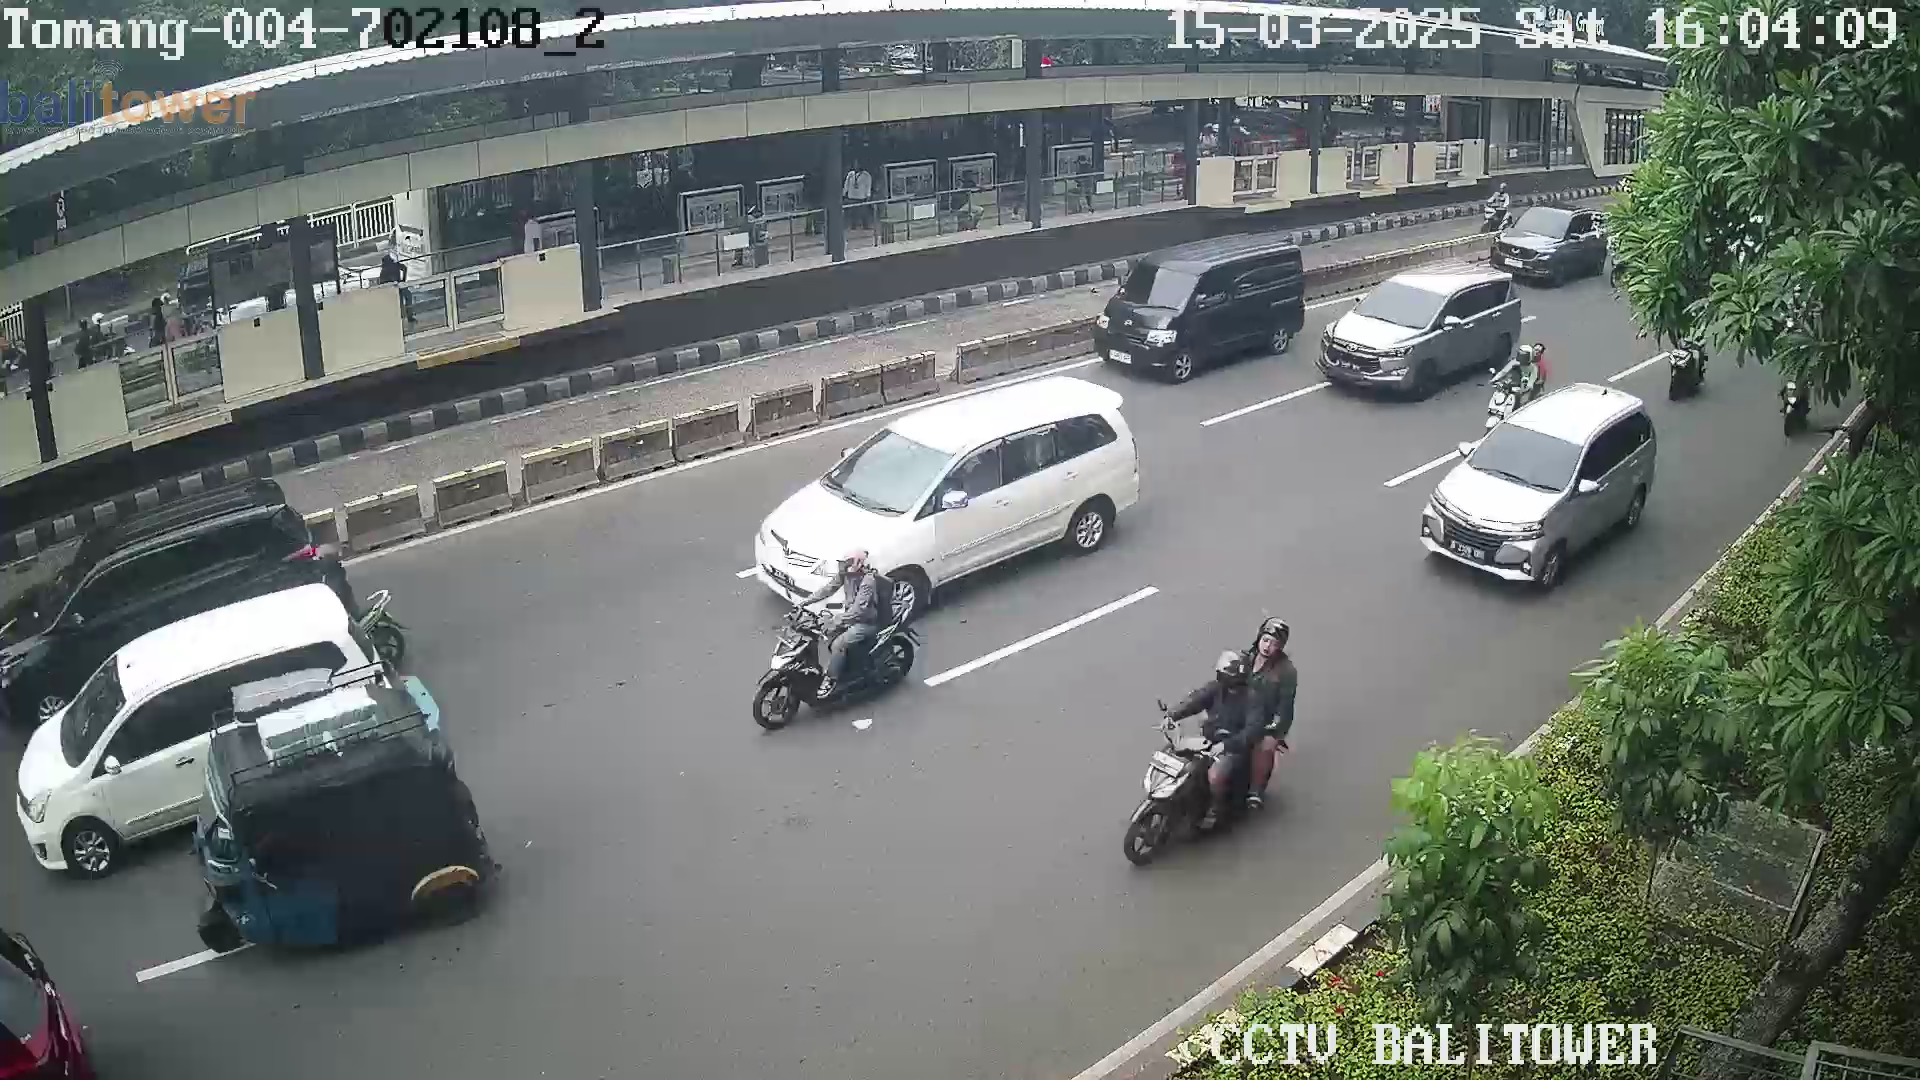half-face helmet: (1210, 647, 1253, 686), (833, 539, 874, 578)
no helmet: (1257, 614, 1296, 673)
